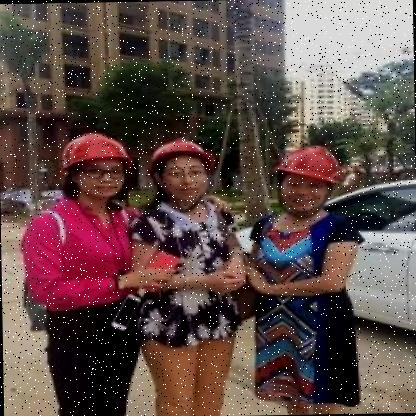capacete: (57, 130, 134, 204), (148, 134, 218, 207), (270, 143, 342, 212)
sem_colete_refletivo: (242, 208, 374, 390), (126, 196, 246, 336), (20, 196, 148, 316)
